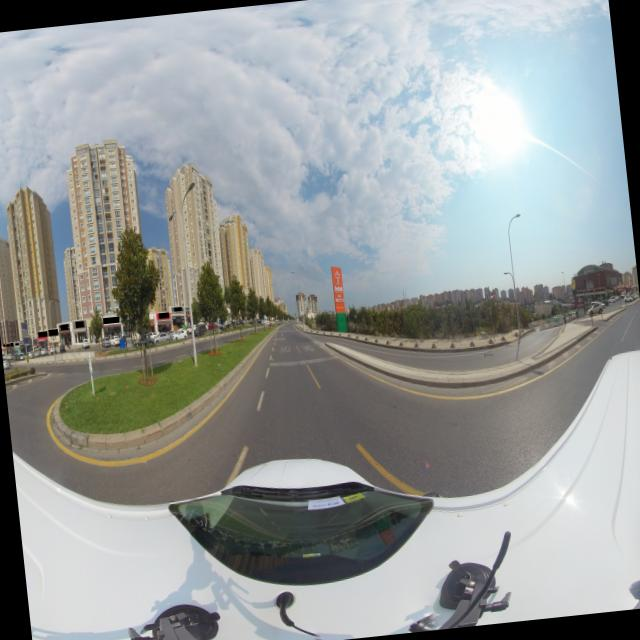SignStore: (102, 316, 119, 324), (75, 320, 84, 328), (48, 329, 58, 336), (158, 313, 169, 318), (38, 331, 47, 337), (60, 324, 68, 330), (173, 307, 182, 311), (6, 343, 10, 346), (15, 342, 19, 345), (10, 342, 13, 346), (3, 343, 5, 346)
